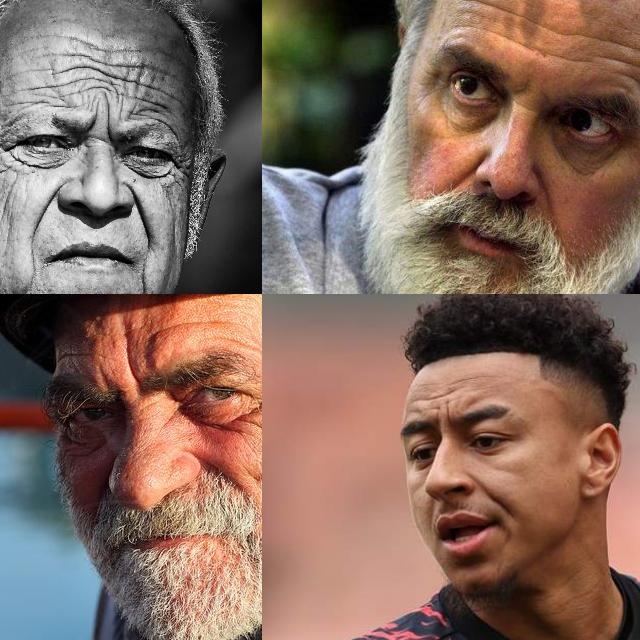crows_feet: (173, 153, 189, 184), (252, 380, 262, 413), (0, 131, 10, 159)
forehead: (152, 314, 224, 336), (542, 43, 586, 75), (539, 22, 595, 46), (99, 44, 129, 86), (603, 51, 640, 85), (490, 24, 530, 54), (51, 340, 91, 370), (56, 48, 92, 78), (131, 96, 167, 124), (139, 60, 167, 94), (466, 0, 513, 19), (427, 382, 455, 410), (26, 80, 64, 98), (600, 29, 626, 53), (460, 372, 496, 384)
frown_line: (118, 348, 144, 389), (102, 111, 116, 142), (86, 104, 100, 132), (515, 98, 537, 114), (436, 409, 452, 425)
gummy_smile: (470, 474, 504, 510), (34, 183, 56, 235), (132, 189, 152, 241), (453, 156, 477, 184)
sad_smile: (22, 246, 42, 282), (138, 264, 152, 294)
